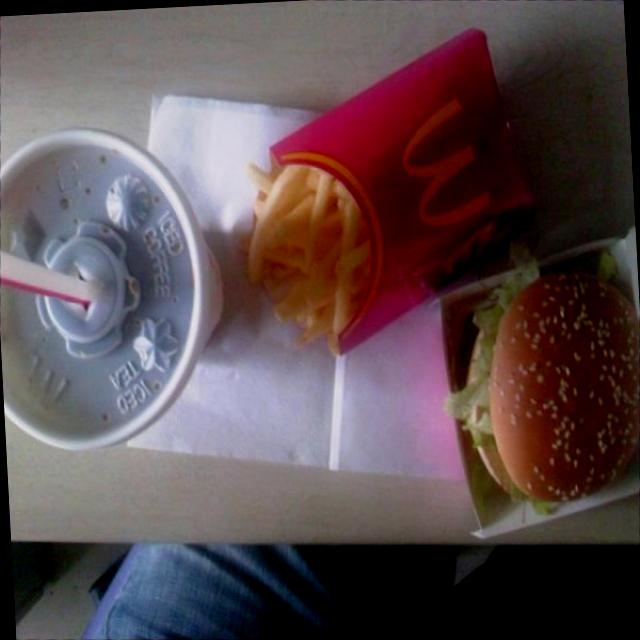Hamburger: (445, 250, 640, 526)
